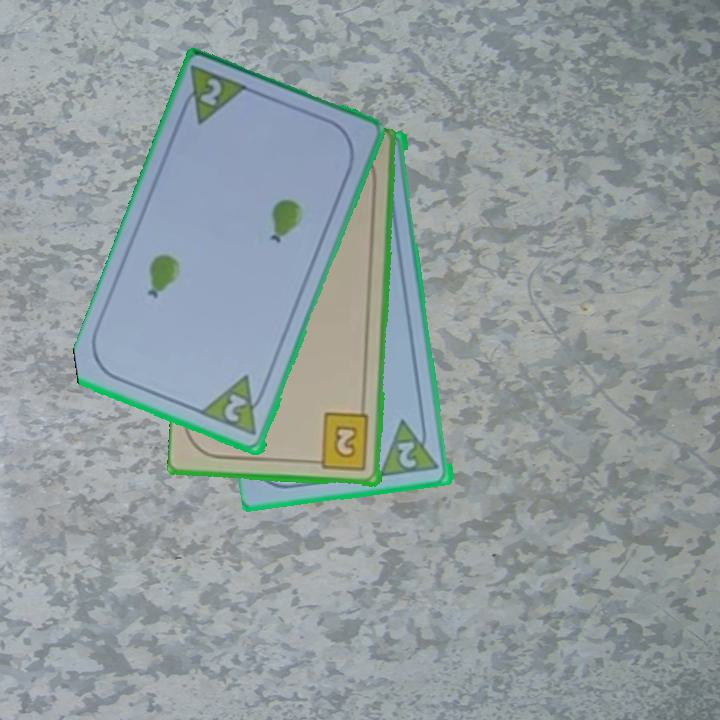2b: (309, 410, 372, 474)
2p: (199, 372, 271, 440), (196, 74, 225, 110), (395, 438, 420, 472)
